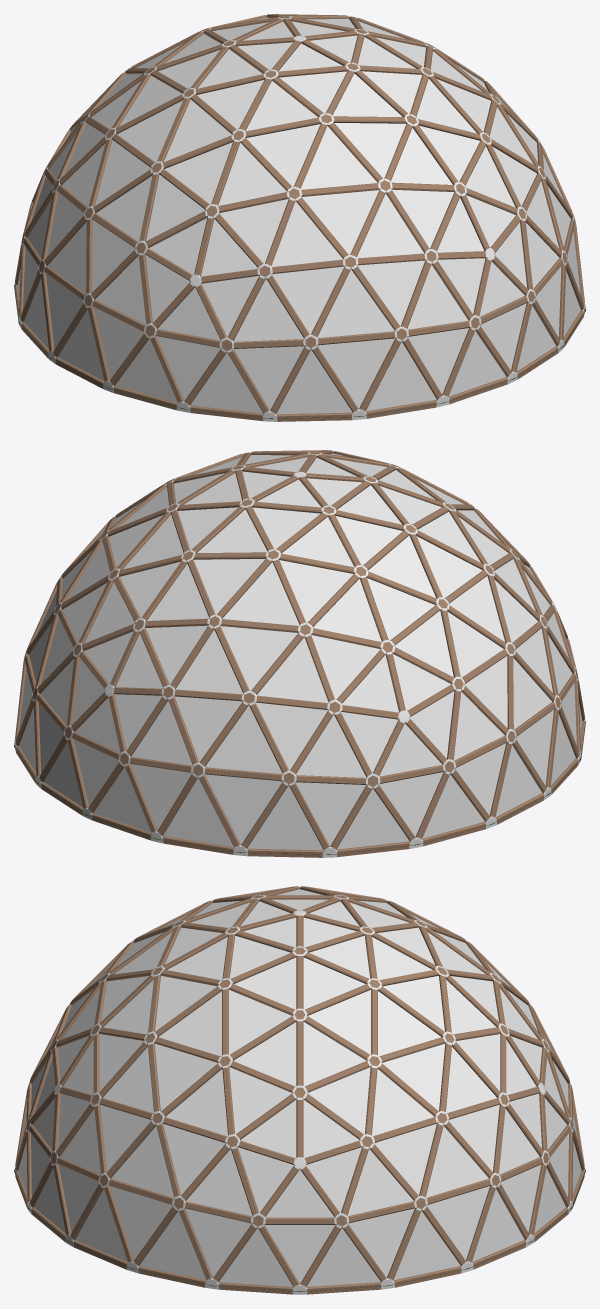
The model's file is dome.fbx.
3 views of the same model, one above another, from view 1: azimuth 30°, elevation 25°; view 2: azimuth 150°, elevation 25°; view 3: azimuth 270°, elevation 25° (orthographic).
Parts seen in each view (by area): view 1: Icosphere; view 2: Icosphere; view 3: Icosphere.
Part boxes in pixels (x1,y1,x2,y2): Icosphere: (14,14,585,421); Icosphere: (14,450,585,857); Icosphere: (15,886,584,1294).
Bounding box in the file's own units: 200 × 101 × 200.
